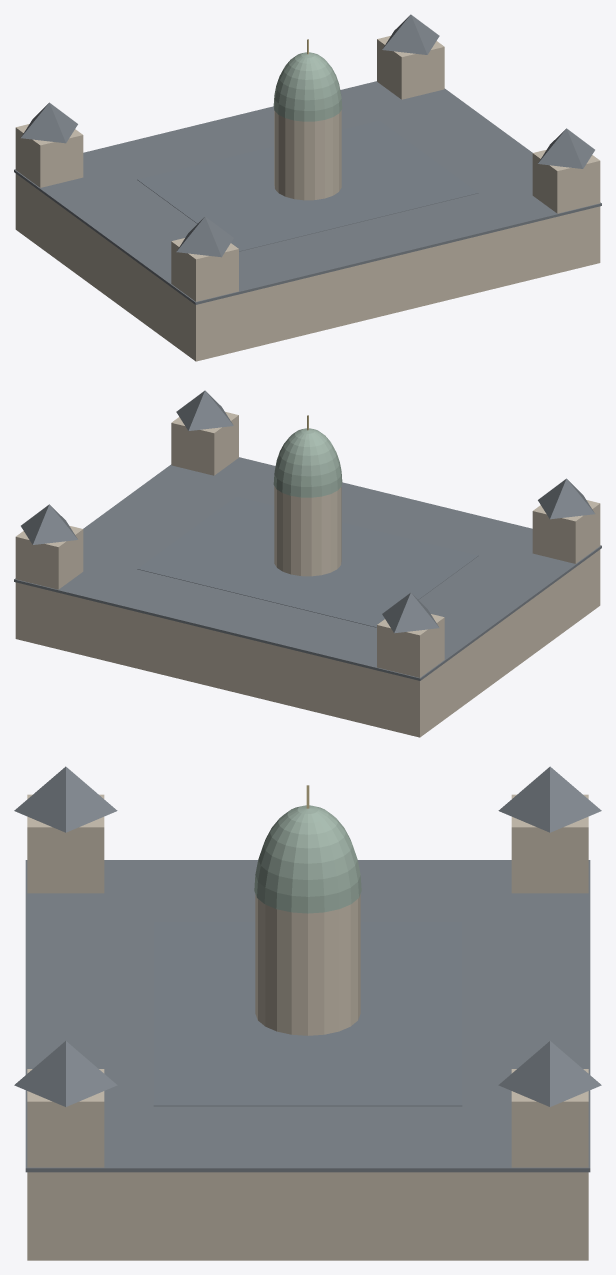
Rendered from escorial.glb.
3 views of the same model, one above another, from view 1: azimuth 30°, elevation 25°; view 2: azimuth 150°, elevation 25°; view 3: azimuth 270°, elevation 25° (orthographic). The views are drawn at different scales.
Size of the model in its own units: 215 by 101 by 168.
